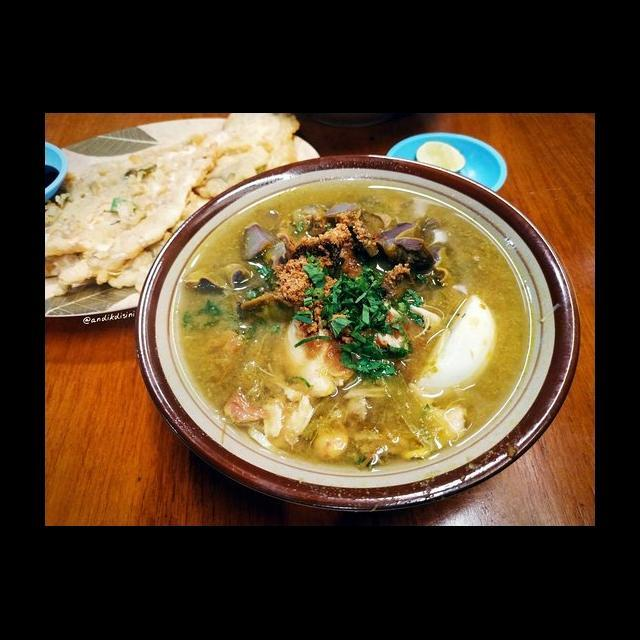Soto: (145, 172, 545, 487)
